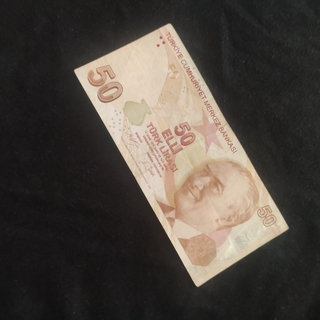50TLFront: (74, 23, 289, 288)
